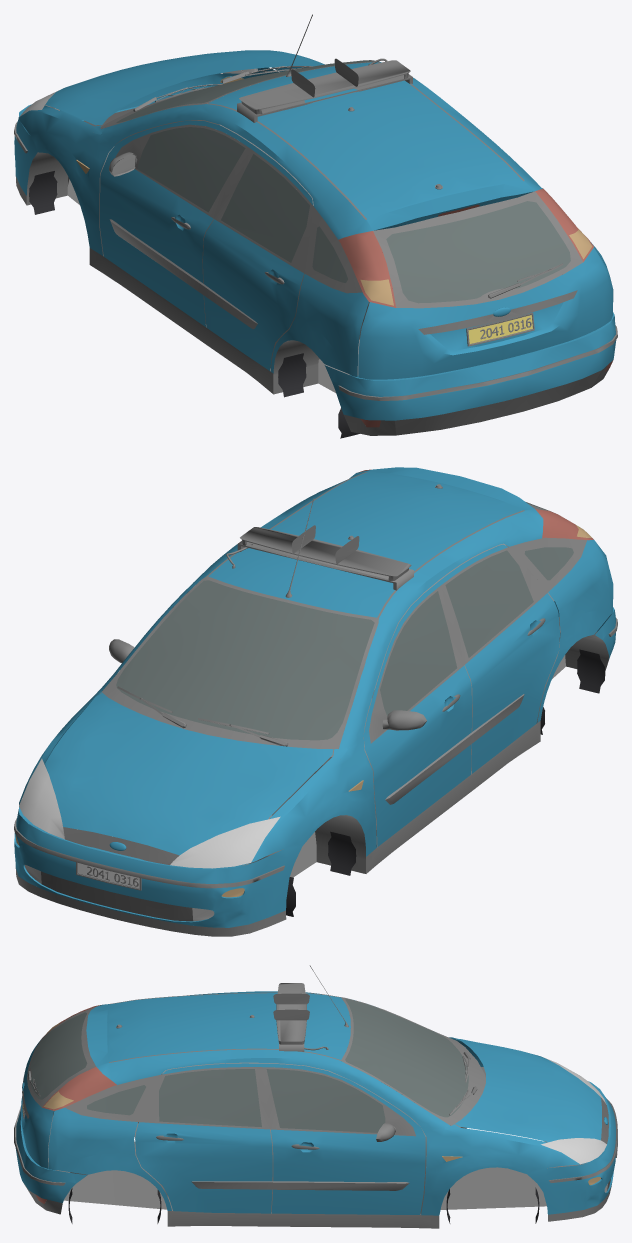
File: body.glb
3 renders of one model, top to bottom at view 1: azimuth 30°, elevation 25°; view 2: azimuth 150°, elevation 25°; view 3: azimuth 270°, elevation 25°, orthographic. The views are drawn at different scales.
Visible parts, largest first — view 1: caisse; view 2: caisse; view 3: caisse.
Boxes of the visible parts, x1,y1,x2,y2 form: caisse: (14,14,617,438); caisse: (14,467,617,936); caisse: (14,965,617,1228).
Bounding box in the file's own units: 1.91 × 1.62 × 4.17.
